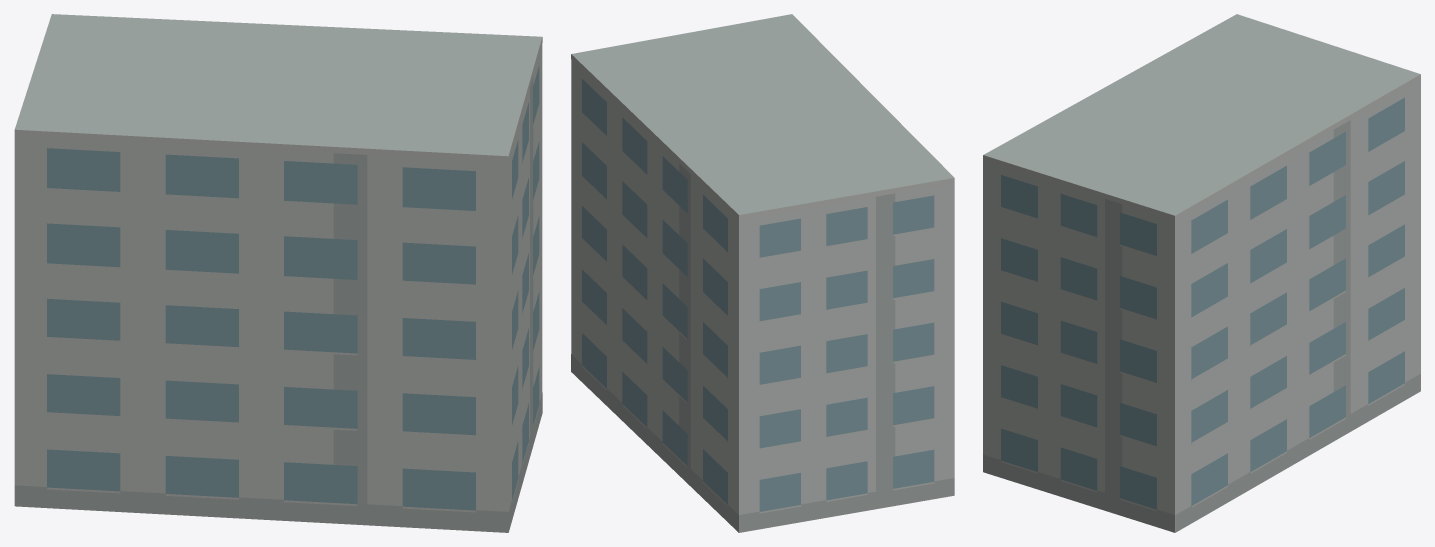
File: survey-upis-32809052.glb
3 views of the same model, side by side, from view 1: azimuth 30°, elevation 25°; view 2: azimuth 150°, elevation 25°; view 3: azimuth 270°, elevation 25° (orthographic). The views are drawn at different scales.
Parts seen in each view (by area): view 1: survey-upis-32809052.tmp; view 2: survey-upis-32809052.tmp; view 3: survey-upis-32809052.tmp.
Part boxes in pixels (x1=…): survey-upis-32809052.tmp: x1=14, y1=14, x2=542, y2=532; survey-upis-32809052.tmp: x1=571, y1=14, x2=954, y2=532; survey-upis-32809052.tmp: x1=983, y1=14, x2=1420, y2=532.
Bounding box in the file's own units: 19.93 × 14.6 × 18.27.
